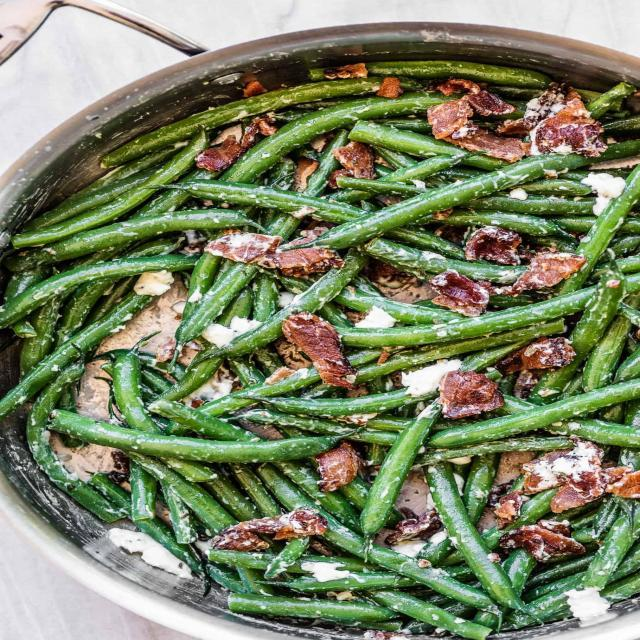Beans: (2, 75, 639, 639)
